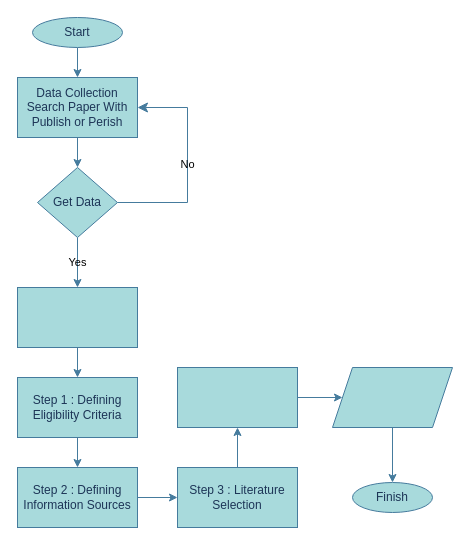
Image size: 470x545. Some labels were removed from this diagram. The shapes that lost their labels are listed below. From the top down, each one's centre as x and y in pixels, then its label:
point (77, 317): Analyst Paper With Prisma Method
point (237, 397): Step 4 : Data collection
point (392, 397): Result : Article Type, Name,Year, Keyword, Region, Rearch Methodology
